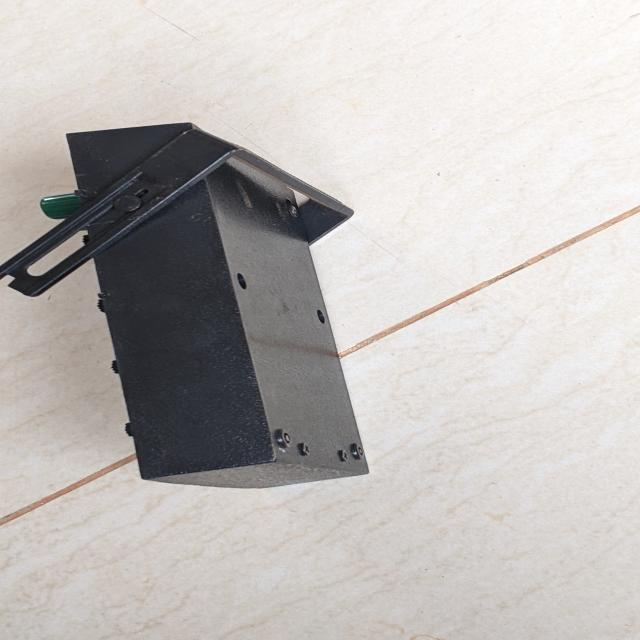Resistor Substitution Box: (5, 109, 436, 488)
